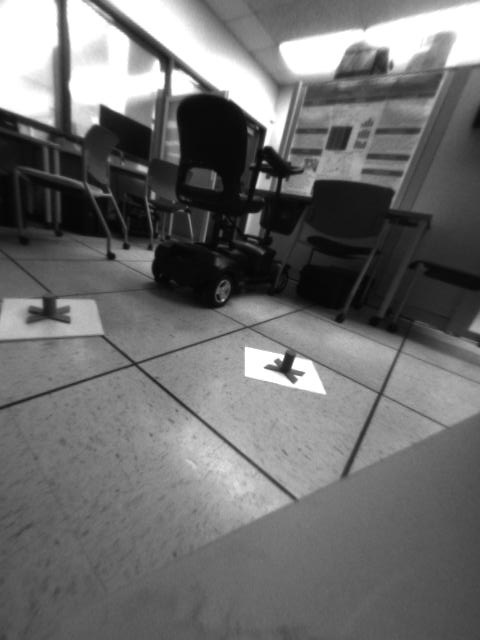X: (23, 292, 70, 323), (266, 350, 306, 384)
